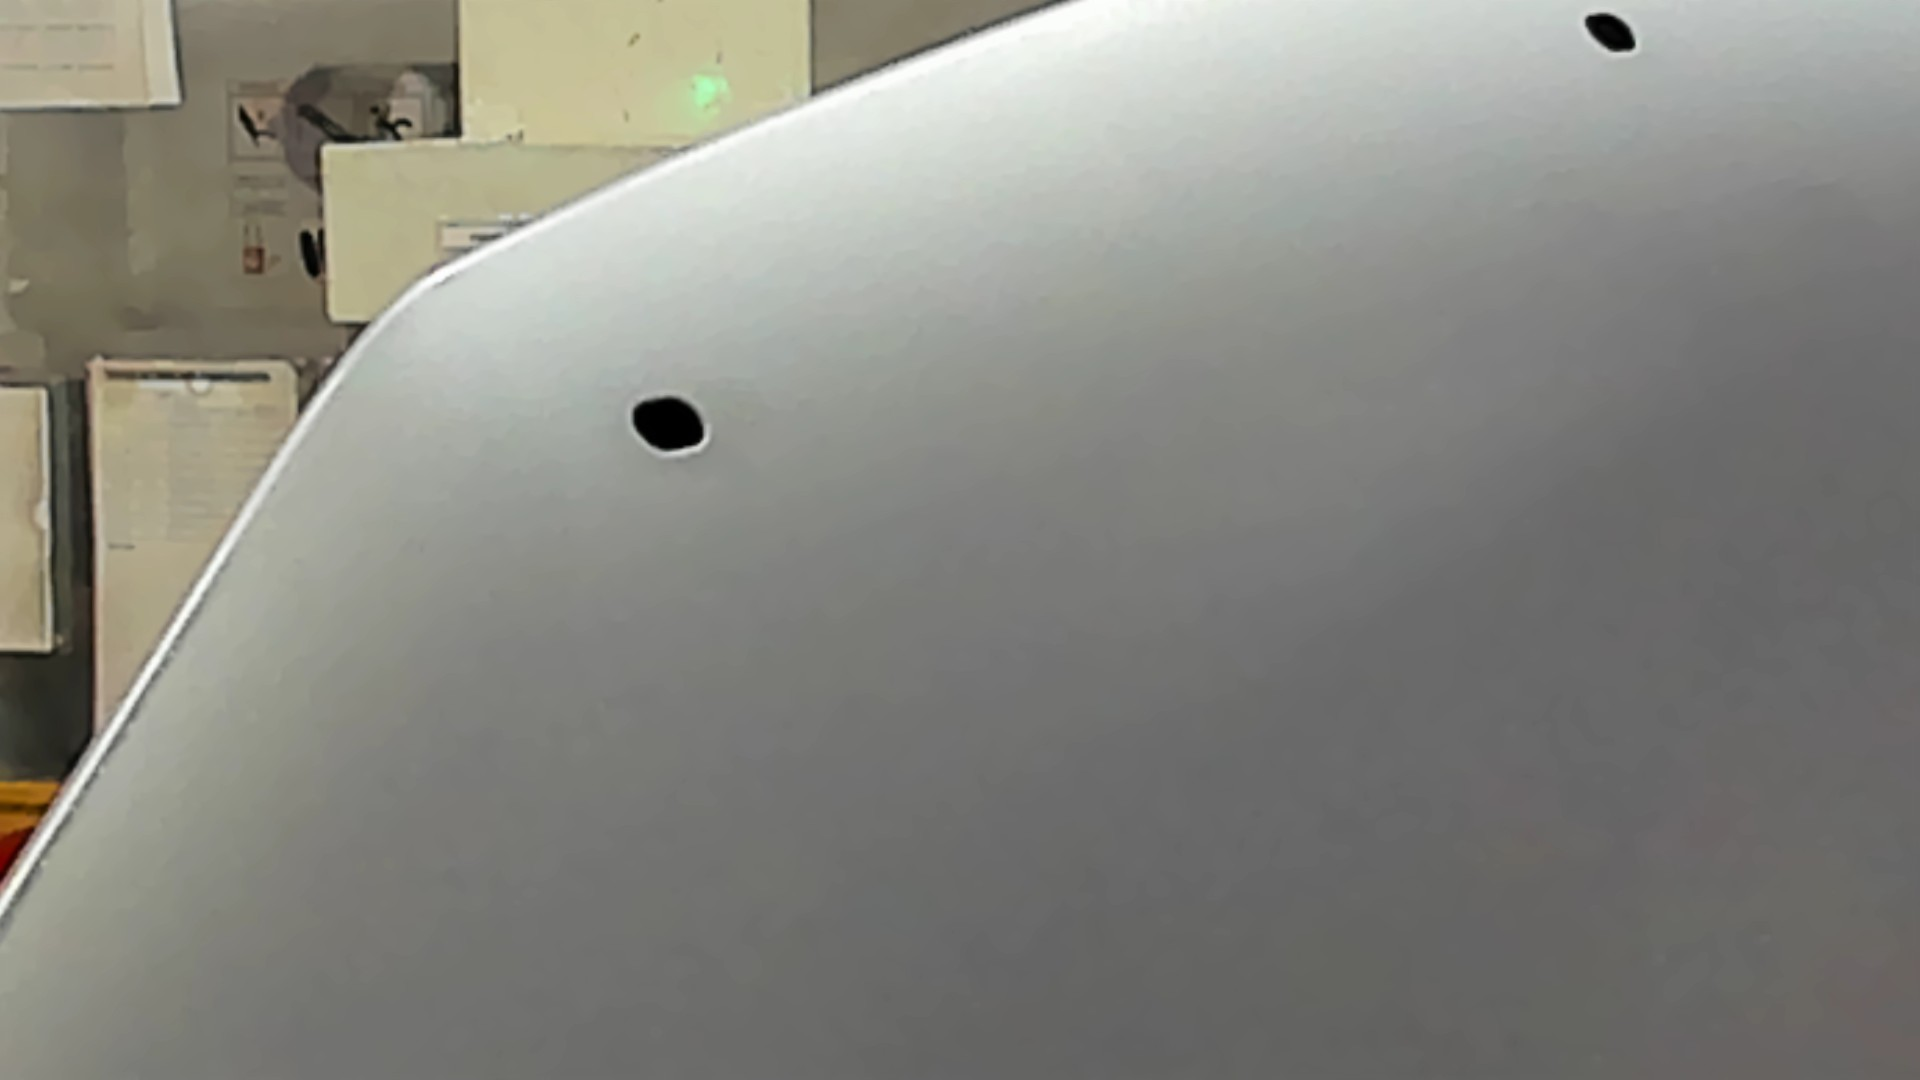chico: (611, 386, 732, 467), (1577, 1, 1644, 73)
